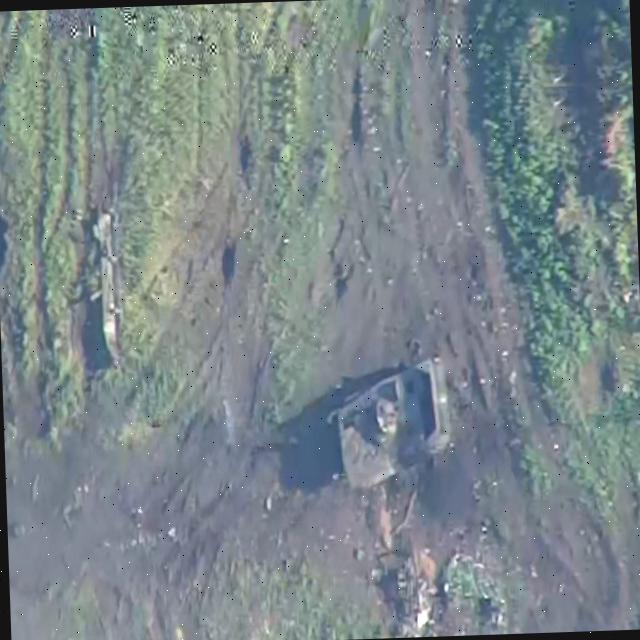AIFV: (331, 351, 456, 492)
